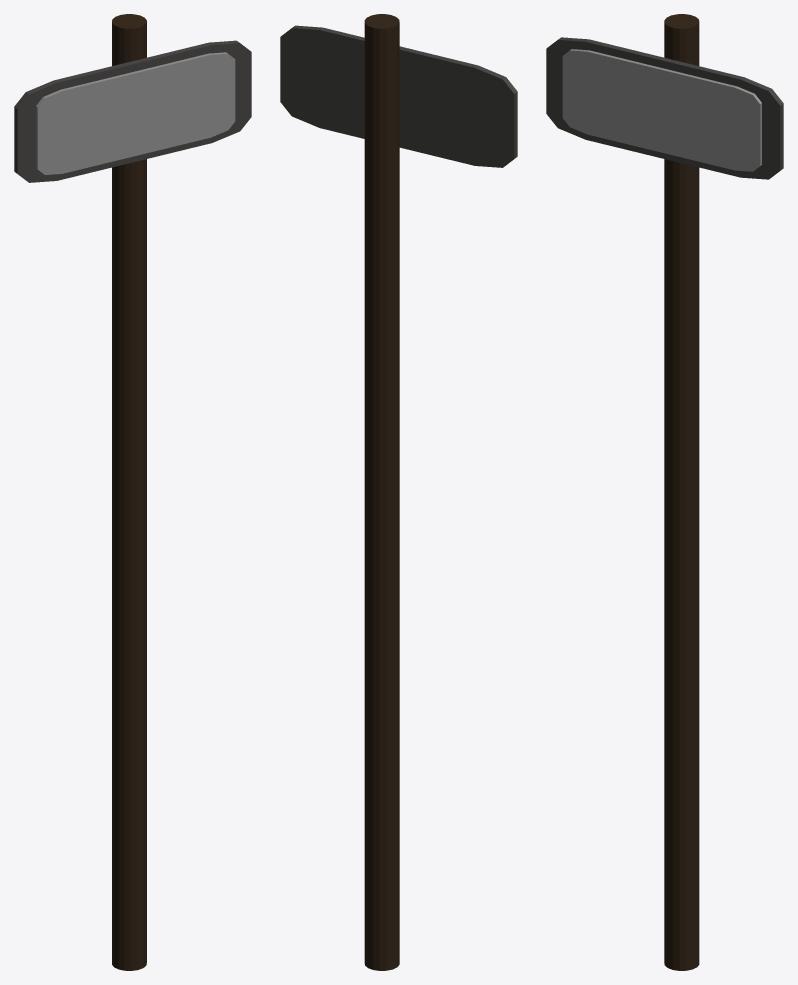
File: StreetSign.fbx
3 renders of one model, left to right at view 1: azimuth 30°, elevation 25°; view 2: azimuth 150°, elevation 25°; view 3: azimuth 330°, elevation 25°, orthographic.
Visible parts, largest first — view 1: Cylinder; view 2: Cylinder; view 3: Cylinder.
Boxes of the visible parts, x1,y1,x2,y2 form: Cylinder: (14,14,251,970); Cylinder: (280,14,517,970); Cylinder: (546,14,783,970).
Bounding box in the file's own units: 200 × 769 × 33.62.
